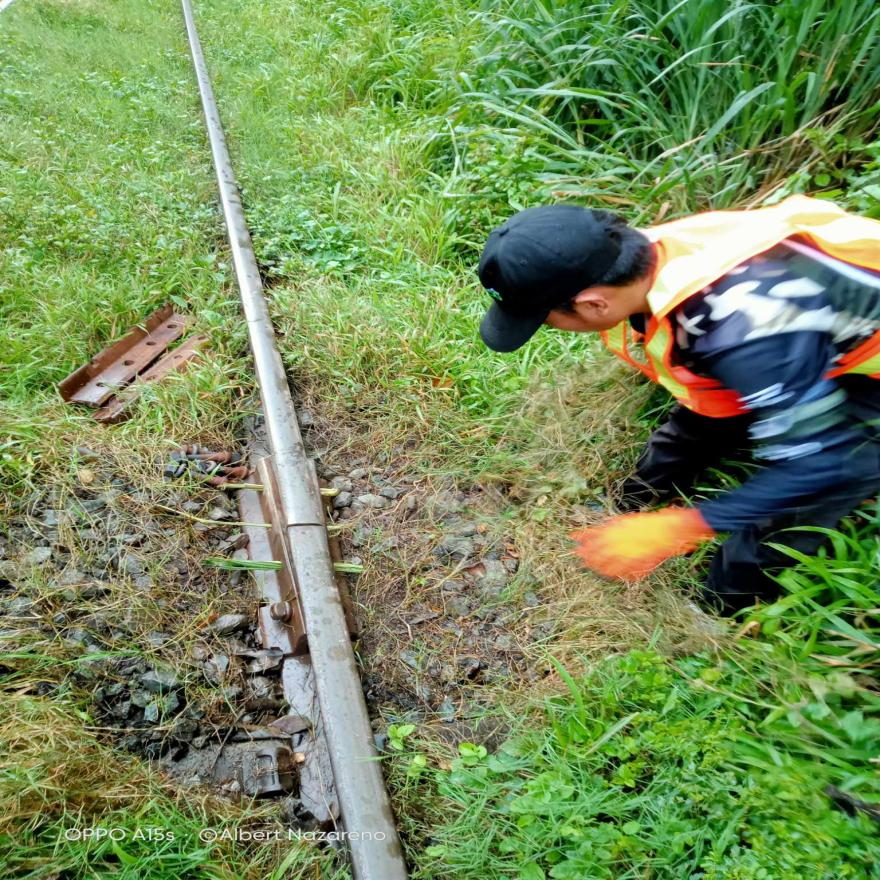railway-gap: (268, 505, 338, 549)
